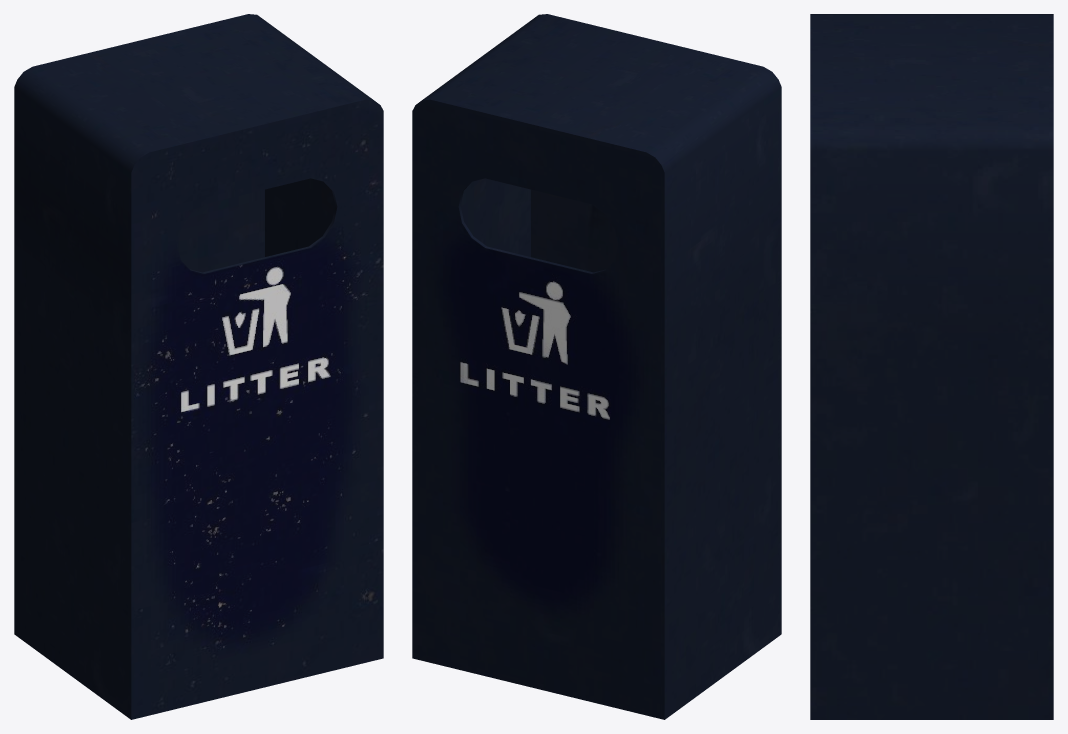
The model's file is SM_Bin_01.glb.
The picture shows the model from 3 angles, left to right: view 1: azimuth 30°, elevation 25°; view 2: azimuth 150°, elevation 25°; view 3: azimuth 270°, elevation 25°; orthographic projection. The views are drawn at different scales.
Visible parts, largest first — view 1: SM_Bin_01; view 2: SM_Bin_01; view 3: SM_Bin_01.
Part boxes in pixels (bbox=[...]): SM_Bin_01: bbox=[14, 14, 383, 719]; SM_Bin_01: bbox=[412, 14, 781, 719]; SM_Bin_01: bbox=[810, 14, 1053, 719].
Bounding box in the file's own units: 0.5835 × 1.24 × 0.4687.
Materials: 1 (1 with a texture image).
